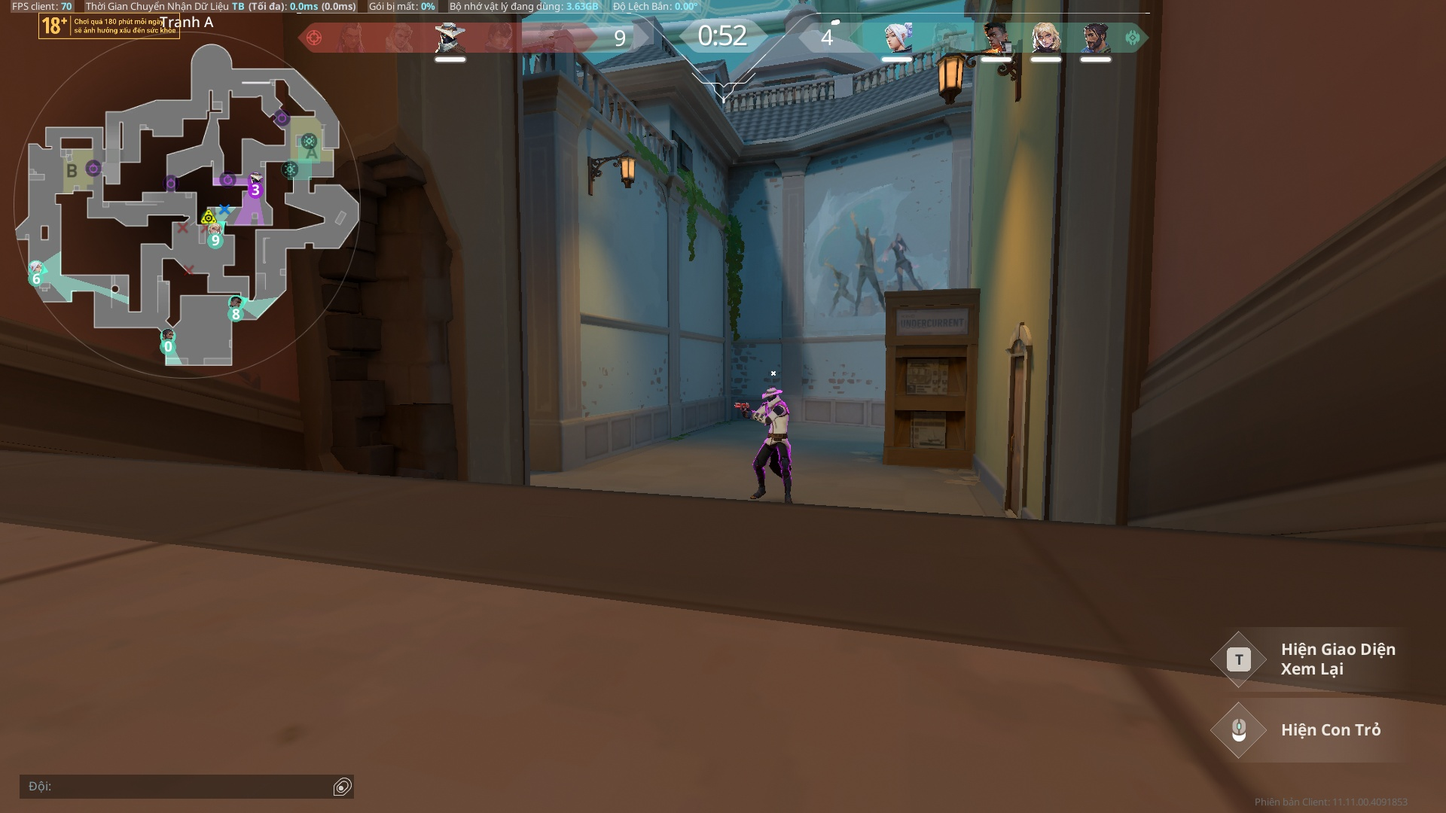body: (764, 400, 791, 434)
head: (764, 389, 779, 402)
